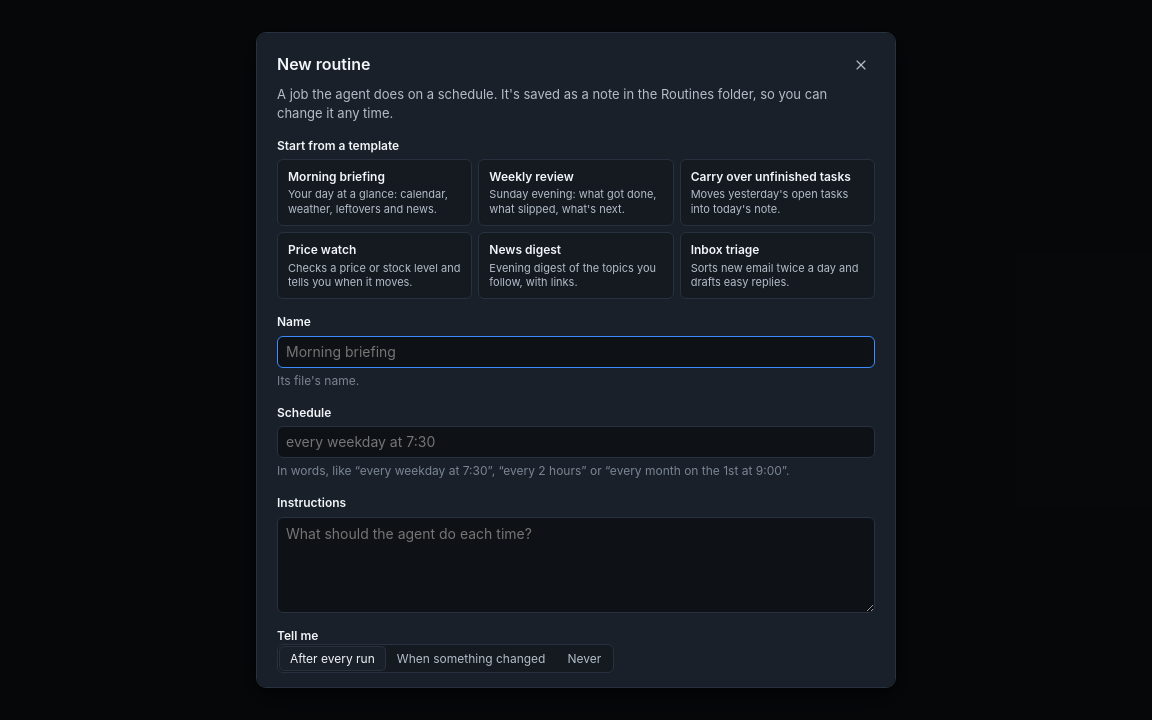
Scenario: New routine › offers the starter templates, and a template fills the form
This screenshot has width=1152, height=720.
Click the button that starts with "Morning briefing".
click(375, 193)  # box [277,159,472,226]
(page scrolled)
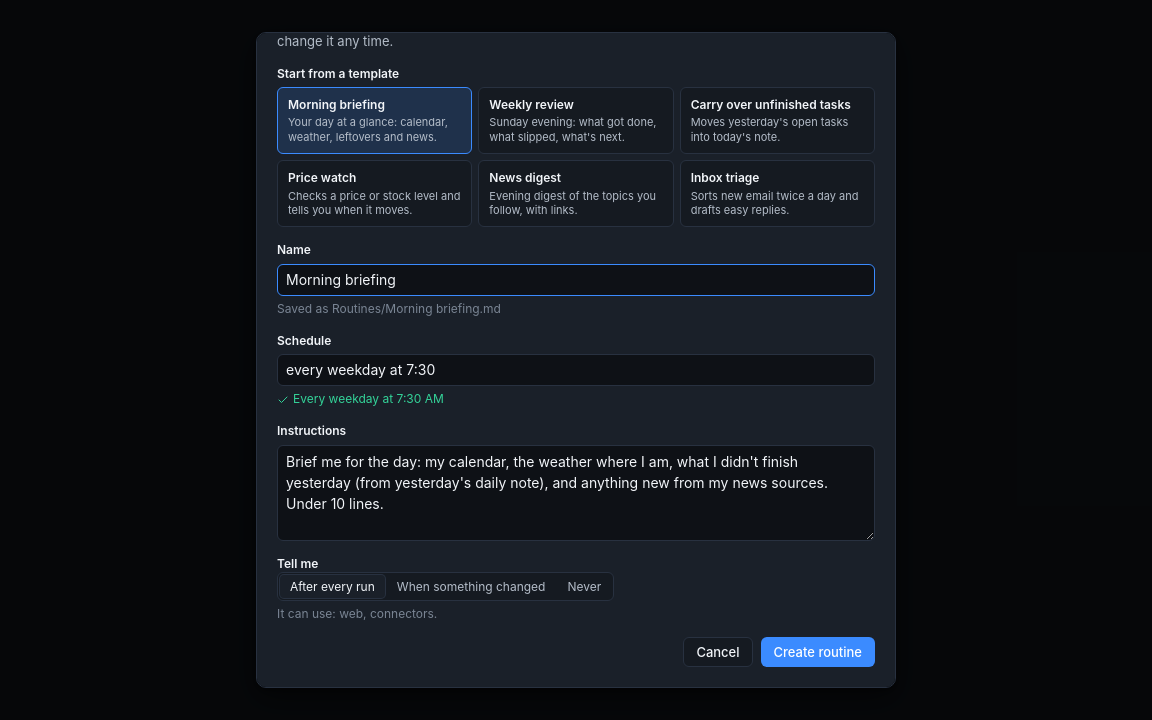
Check: the radio button labelled "After every run" is checked, box [280,575,385,598]
Check: the element showing "Every weekday at 7:30 AM" is shown, box [277,391,444,406]
